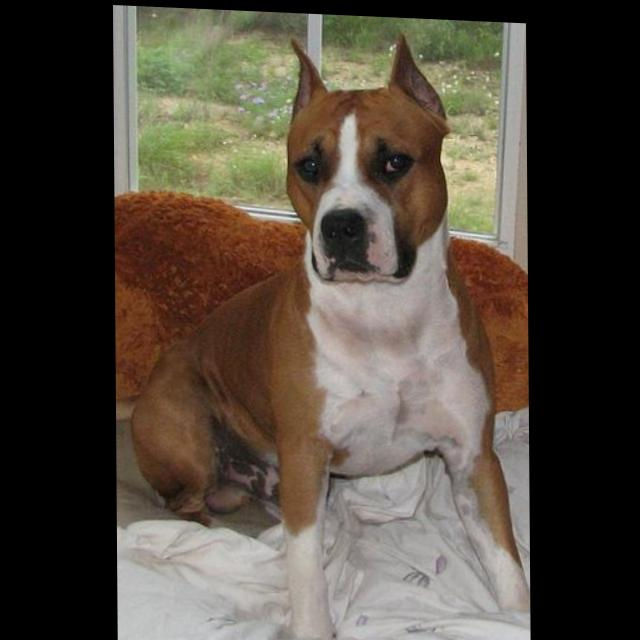amstaff: (129, 18, 531, 640)
